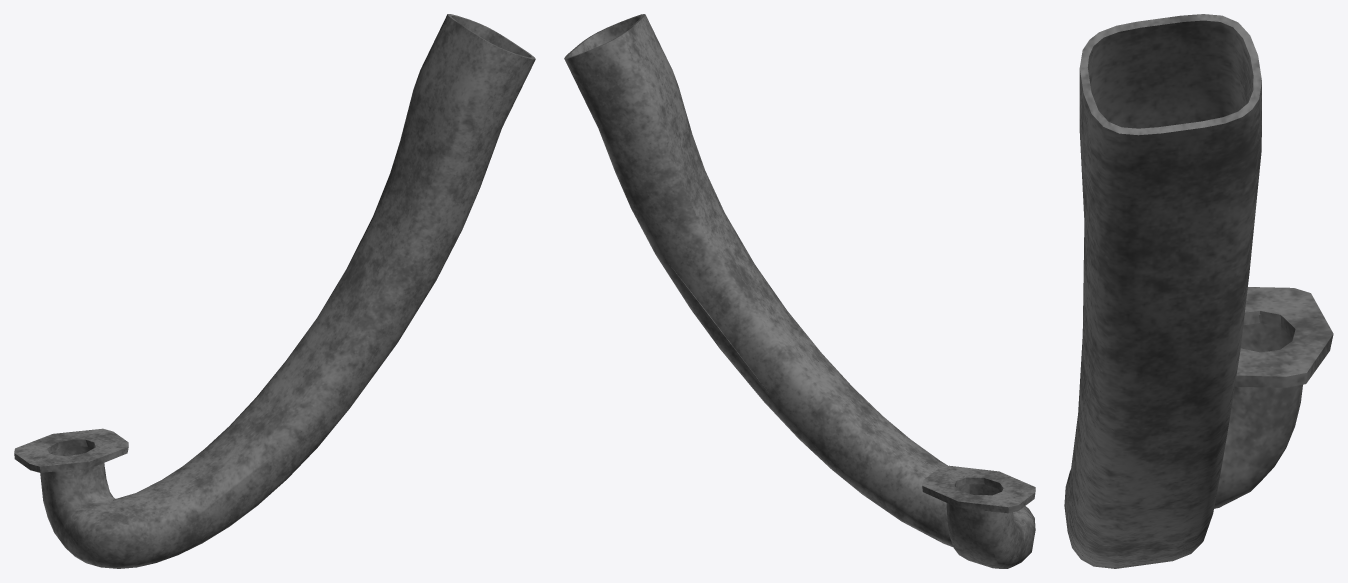
The model's file is turboBig-exhaust-inlet-tube.fbx.
3 renders of one model, left to right at view 1: azimuth 30°, elevation 25°; view 2: azimuth 150°, elevation 25°; view 3: azimuth 270°, elevation 25°, orthographic. The views are drawn at different scales.
Visible parts, largest first — view 1: turboBig-exhaust-inlet-tube; view 2: turboBig-exhaust-inlet-tube; view 3: turboBig-exhaust-inlet-tube.
Boxes of the visible parts, x1,y1,x2,y2 form: turboBig-exhaust-inlet-tube: [14, 14, 535, 568]; turboBig-exhaust-inlet-tube: [564, 14, 1035, 568]; turboBig-exhaust-inlet-tube: [1064, 14, 1333, 568].
Bounding box in the file's own units: 38.03 × 34.09 × 10.12.
